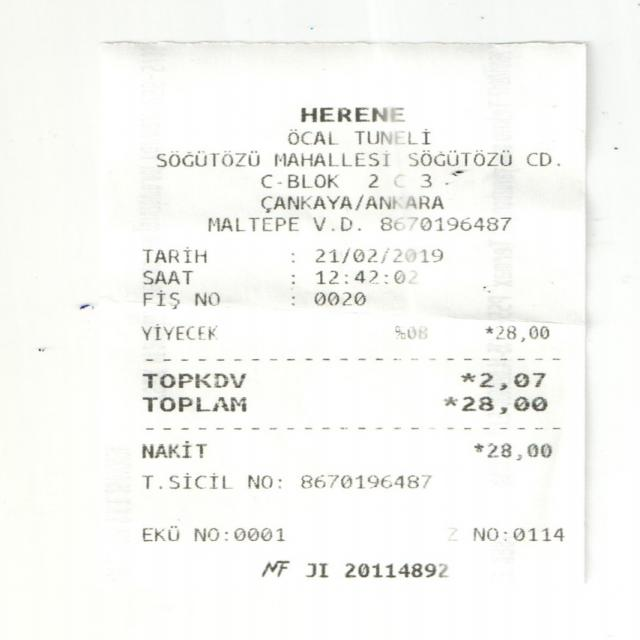text: (258, 192, 442, 212), (312, 247, 440, 263), (444, 396, 547, 414), (151, 149, 260, 166), (379, 216, 510, 230), (300, 474, 430, 488), (298, 105, 402, 121), (313, 269, 417, 285), (344, 562, 445, 578), (274, 152, 388, 166), (193, 525, 284, 542), (408, 150, 511, 165), (141, 373, 244, 388), (141, 396, 244, 411), (142, 473, 232, 490), (461, 372, 544, 389), (472, 526, 562, 541), (138, 323, 216, 340), (208, 216, 296, 231), (474, 443, 550, 460), (352, 128, 429, 144), (142, 441, 206, 458), (260, 173, 337, 187), (483, 326, 548, 342), (141, 247, 204, 262), (138, 289, 180, 309), (286, 129, 336, 144), (313, 291, 365, 305), (143, 270, 192, 284), (312, 216, 359, 230), (141, 524, 177, 542), (259, 560, 288, 576), (527, 152, 559, 166), (394, 324, 426, 338), (246, 474, 278, 488), (192, 292, 219, 306), (306, 563, 326, 576), (443, 526, 459, 541), (393, 173, 405, 188), (420, 172, 430, 186), (287, 250, 296, 264), (368, 174, 376, 188), (288, 294, 297, 306), (288, 272, 295, 284)
